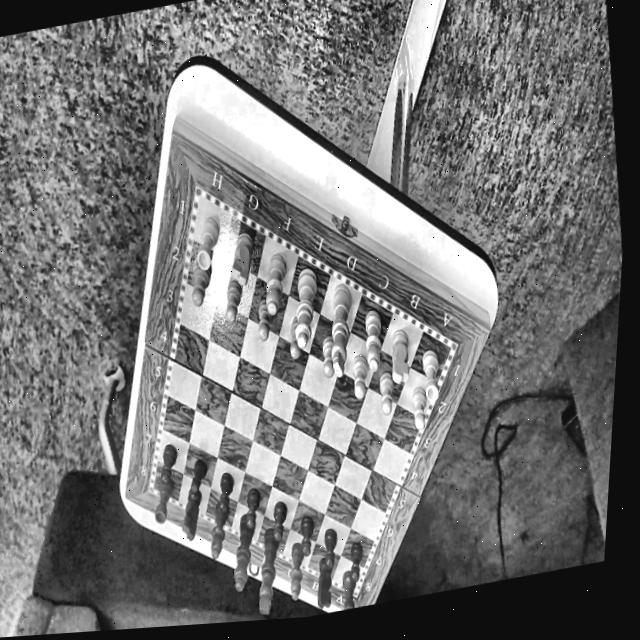chessboard: (153, 196, 450, 591)
